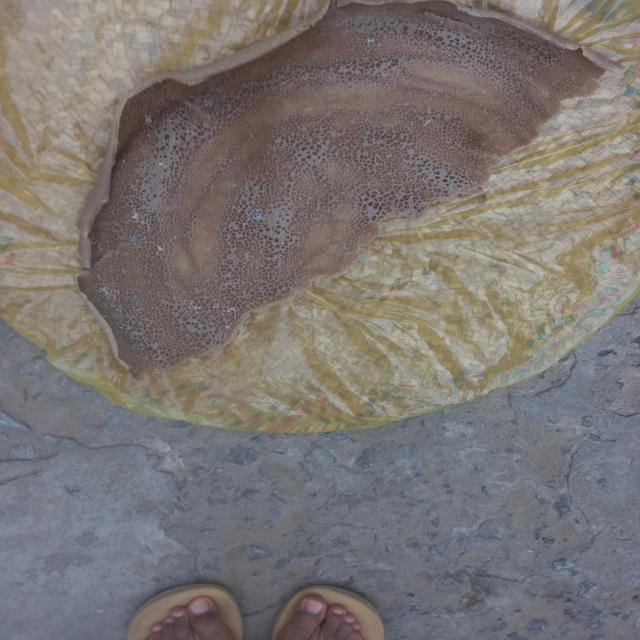injera_mold: (99, 286, 123, 300), (184, 298, 201, 314), (220, 306, 240, 316), (130, 233, 146, 244), (144, 112, 153, 124), (250, 209, 262, 218), (119, 324, 130, 332), (131, 210, 140, 219), (202, 100, 214, 106), (233, 205, 243, 212), (112, 312, 122, 318), (130, 334, 139, 340), (130, 296, 139, 302), (158, 350, 166, 356), (367, 38, 375, 44), (160, 216, 167, 222), (132, 308, 142, 312), (99, 302, 107, 307), (227, 183, 237, 187), (116, 306, 122, 312), (94, 266, 100, 272), (120, 268, 126, 274), (157, 246, 163, 251), (225, 324, 231, 328), (156, 357, 162, 361), (91, 291, 97, 295), (158, 162, 164, 166), (173, 236, 178, 240), (102, 315, 108, 318), (205, 248, 211, 251), (140, 221, 146, 224), (205, 279, 210, 282), (122, 159, 125, 163), (163, 166, 168, 168), (156, 252, 159, 255)
